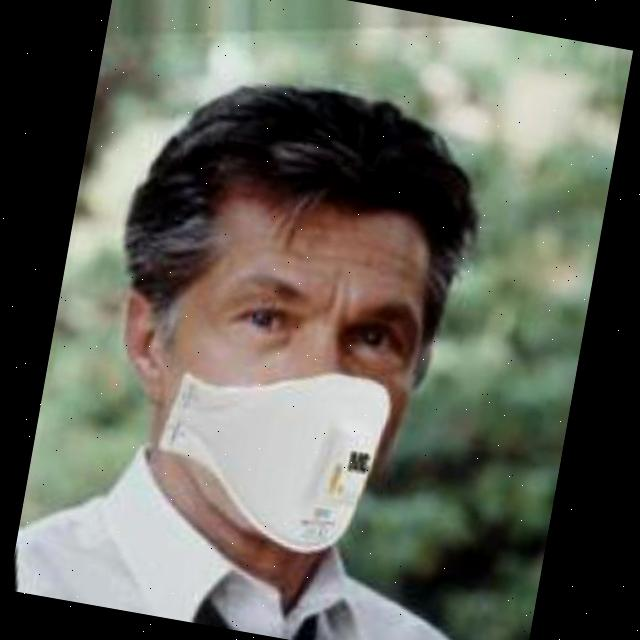suspicion: (103, 109, 464, 556)
